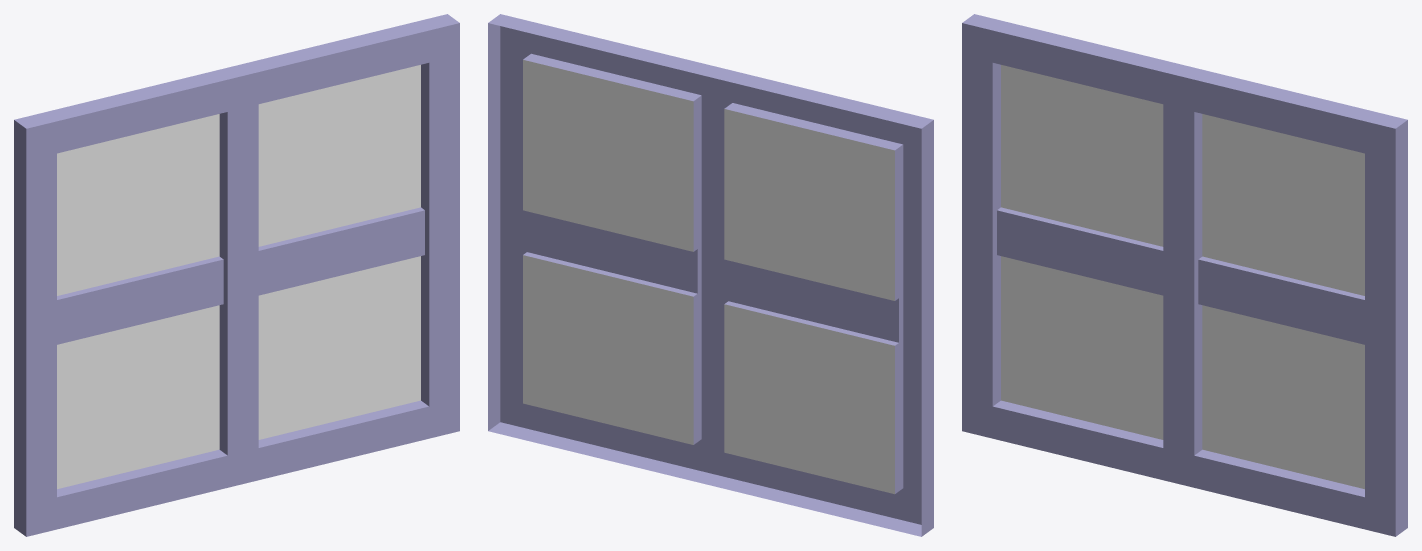
File: window10.obj
The picture shows the model from 3 angles, left to right: view 1: azimuth 30°, elevation 25°; view 2: azimuth 150°, elevation 25°; view 3: azimuth 330°, elevation 25°; orthographic projection.
Visible parts, largest first — view 1: mergedBlocks; view 2: mergedBlocks; view 3: mergedBlocks.
Part boxes in pixels (bbox=[...]): mergedBlocks: bbox=[14, 14, 459, 536]; mergedBlocks: bbox=[488, 14, 933, 536]; mergedBlocks: bbox=[962, 14, 1407, 536].
Bounding box in the file's own units: 0.6088 × 0.5477 × 0.03.
